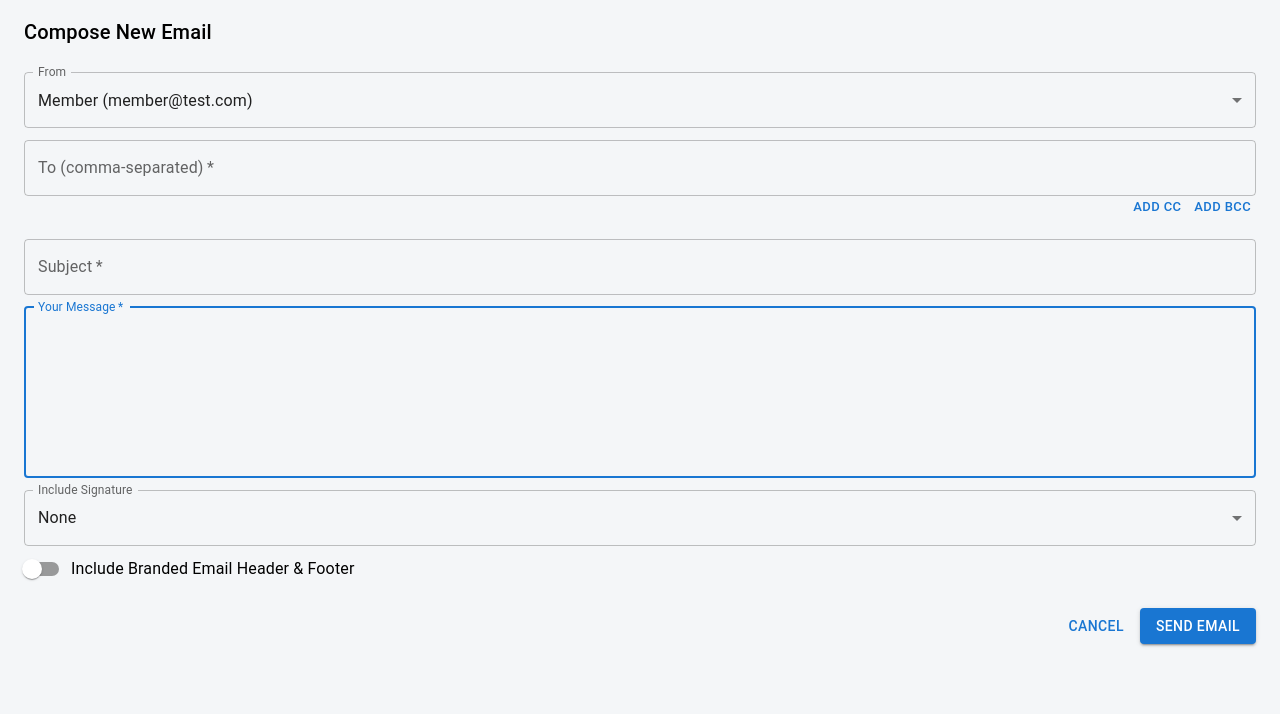
Test case: ComposeEmailDialog › shows Cc and Bcc fields when buttons are clicked
# Click Cc button
Step 1. Click the button "Add Cc" → (1157, 207), box [1125,192,1189,223]
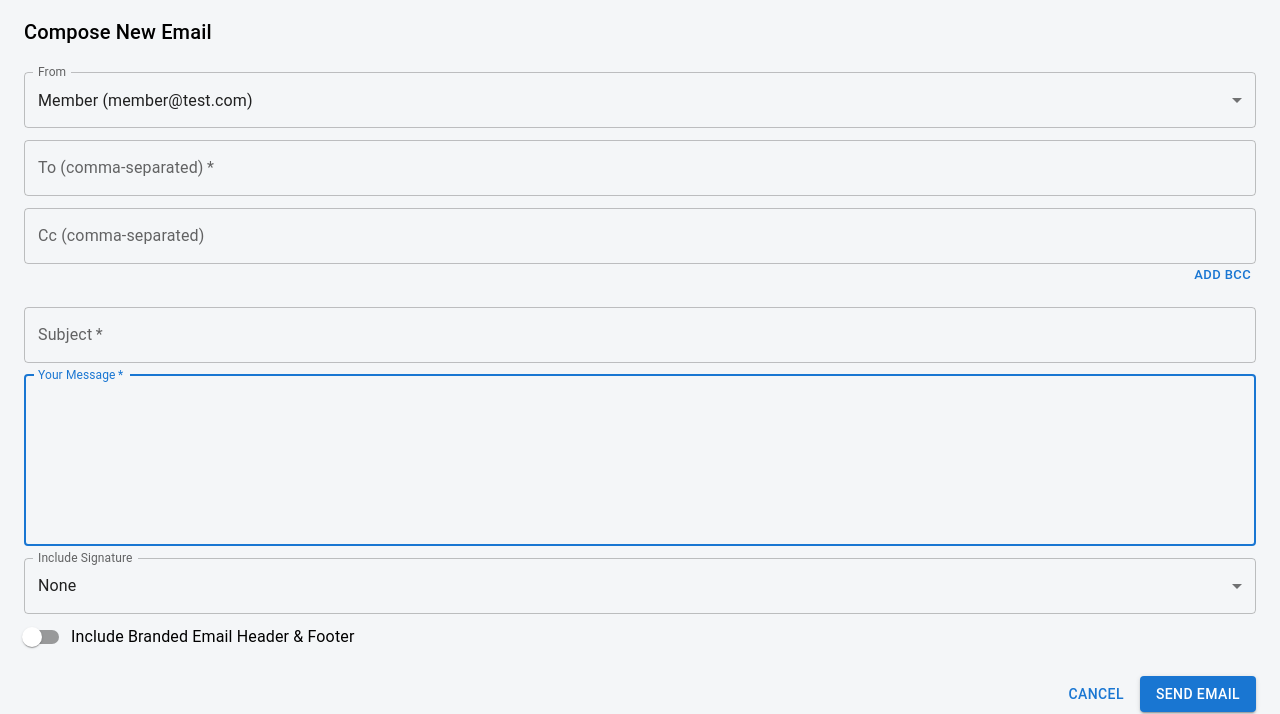
Now the field labelled "Cc (comma-separated)" is shown, box [24,208,1256,264]
# Click Bcc button
Step 2. Click the button "Add Bcc" → (1223, 275), box [1189,260,1256,291]
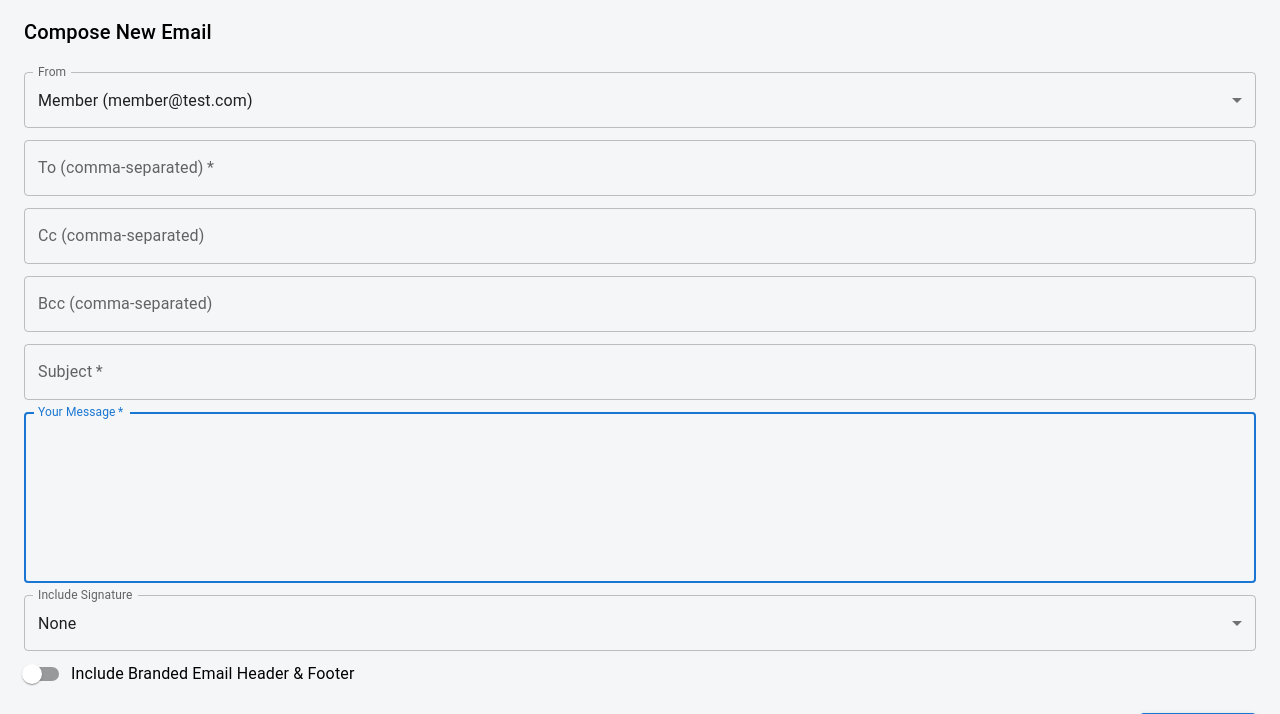
Now the field labelled "Bcc (comma-separated)" is shown, box [24,276,1256,332]
